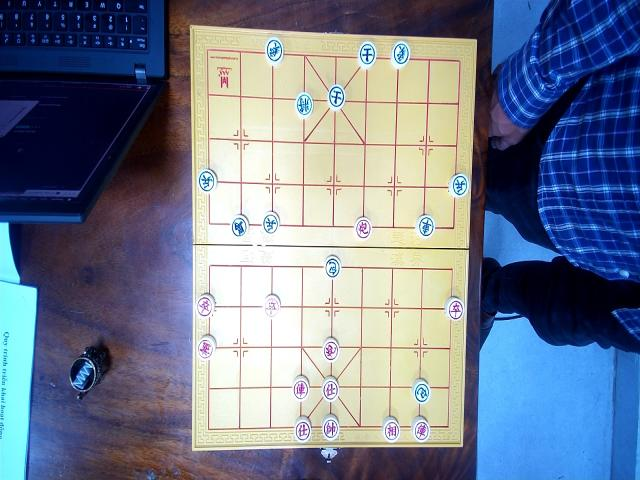piece: (264, 37, 284, 66), (357, 42, 377, 70), (390, 41, 410, 69), (411, 378, 431, 405), (448, 172, 468, 198), (197, 335, 217, 361), (381, 416, 400, 443), (197, 168, 217, 193), (444, 296, 464, 321), (415, 214, 435, 239), (411, 416, 430, 442), (294, 416, 312, 443), (322, 414, 340, 441), (327, 83, 345, 110), (322, 337, 340, 364), (294, 91, 312, 118), (353, 216, 372, 241), (196, 293, 214, 319), (292, 375, 310, 401), (324, 255, 342, 280), (230, 213, 248, 238), (321, 377, 339, 401), (262, 212, 280, 235), (264, 294, 280, 317)
